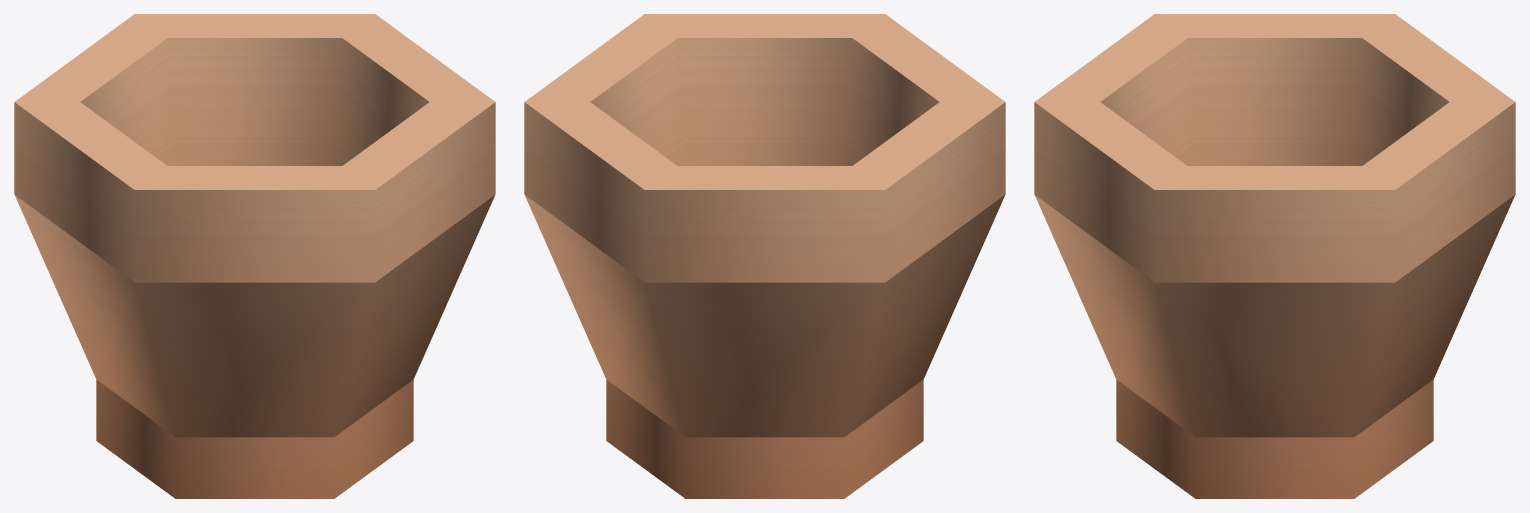
File: food-ice-cream-cup.glb
3 views of the same model, side by side, from view 1: azimuth 30°, elevation 25°; view 2: azimuth 150°, elevation 25°; view 3: azimuth 270°, elevation 25° (orthographic).
Visible parts, largest first — view 1: ice-cream-cup; view 2: ice-cream-cup; view 3: ice-cream-cup.
Boxes of the visible parts, box(x1,y1,x2,y2) form: ice-cream-cup: box(14, 14, 495, 498); ice-cream-cup: box(524, 14, 1005, 498); ice-cream-cup: box(1034, 14, 1515, 498).
Size of the model in its own units: 0.2011 by 0.1804 by 0.2322.
1 material, 1 textured.
